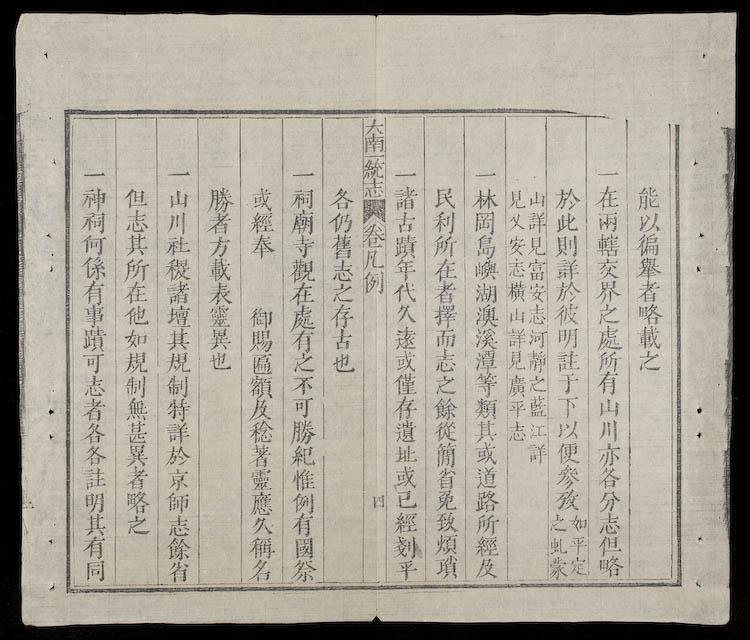c: (205, 185, 235, 212), (79, 326, 109, 352), (287, 257, 317, 282), (288, 418, 316, 444), (635, 324, 664, 349), (391, 533, 420, 558), (163, 256, 192, 281), (471, 464, 500, 489), (288, 305, 317, 330), (635, 184, 662, 210), (164, 326, 192, 351), (595, 325, 623, 350), (593, 184, 621, 209), (391, 185, 419, 210), (79, 186, 108, 210), (552, 186, 581, 210), (593, 233, 622, 257), (470, 187, 500, 210), (433, 441, 459, 467), (472, 371, 499, 396), (289, 210, 316, 235), (392, 325, 419, 350), (122, 257, 150, 281), (594, 442, 622, 466), (205, 257, 233, 281), (80, 255, 108, 279), (248, 491, 276, 515), (248, 234, 276, 258), (163, 443, 192, 466), (163, 281, 192, 304), (289, 558, 318, 581), (163, 420, 192, 443), (392, 395, 419, 419), (430, 210, 457, 234), (392, 464, 419, 488), (81, 397, 108, 421), (248, 467, 275, 491), (123, 397, 150, 421), (81, 373, 108, 397), (123, 209, 150, 233), (247, 443, 274, 467), (392, 234, 419, 258), (431, 234, 458, 258), (164, 513, 192, 536), (123, 443, 151, 466), (164, 467, 192, 490), (164, 536, 192, 559), (635, 349, 663, 372), (80, 466, 108, 489), (392, 510, 420, 533), (472, 489, 500, 512), (289, 467, 317, 490), (634, 233, 662, 256), (594, 279, 622, 302), (205, 212, 233, 235), (431, 304, 459, 327), (248, 535, 276, 558), (123, 490, 151, 513), (634, 279, 662, 302), (554, 464, 582, 487), (164, 397, 192, 420), (288, 282, 316, 305), (472, 304, 500, 327), (247, 420, 275, 443), (553, 349, 581, 372), (247, 329, 275, 352), (431, 396, 459, 419), (247, 305, 275, 328), (247, 375, 275, 398), (79, 211, 108, 233), (634, 303, 664, 324), (329, 234, 354, 259), (82, 512, 108, 536), (432, 185, 458, 209), (249, 186, 275, 210), (329, 303, 355, 327), (432, 348, 458, 372), (328, 186, 354, 210), (248, 558, 275, 581), (433, 555, 460, 578), (206, 327, 233, 350), (392, 419, 419, 442), (289, 444, 316, 467), (472, 419, 499, 442), (122, 350, 149, 373), (122, 233, 149, 256), (80, 303, 107, 326), (80, 280, 107, 303), (432, 258, 459, 281), (392, 372, 419, 395), (206, 281, 233, 304), (432, 532, 460, 554), (122, 281, 150, 303), (596, 555, 624, 577), (595, 512, 623, 534), (163, 234, 191, 256), (164, 351, 192, 373), (553, 258, 581, 280), (553, 488, 581, 510), (122, 420, 150, 442), (122, 186, 150, 208), (635, 256, 663, 278), (553, 280, 581, 302), (553, 303, 581, 325), (79, 233, 108, 254), (595, 371, 620, 395), (472, 210, 497, 234), (555, 395, 581, 418), (289, 512, 315, 535), (81, 535, 107, 558), (248, 352, 274, 375), (392, 211, 418, 234), (555, 440, 581, 463), (329, 259, 355, 282), (595, 418, 621, 441), (329, 328, 355, 351), (553, 234, 579, 257), (473, 512, 500, 534), (165, 560, 192, 582), (122, 327, 149, 349), (123, 467, 150, 489), (473, 534, 500, 556), (432, 420, 459, 442), (206, 305, 233, 327), (123, 304, 150, 326), (594, 257, 621, 279), (594, 303, 621, 325), (164, 374, 191, 396), (635, 211, 662, 233), (81, 490, 108, 512), (81, 421, 108, 443), (595, 489, 622, 511), (472, 442, 499, 464), (289, 330, 316, 352), (289, 187, 316, 209), (248, 211, 275, 233), (124, 514, 152, 535), (164, 491, 192, 512), (362, 223, 385, 248), (473, 235, 498, 258), (290, 536, 316, 558), (392, 258, 418, 280), (473, 328, 499, 350), (432, 373, 458, 395), (123, 374, 149, 396), (473, 397, 499, 419), (392, 350, 418, 372), (328, 211, 354, 233), (473, 349, 499, 371), (472, 281, 498, 303), (206, 235, 232, 257), (432, 281, 458, 303), (553, 211, 579, 233), (433, 510, 459, 532), (596, 466, 622, 488), (555, 372, 581, 394), (248, 398, 274, 420), (554, 327, 580, 349), (472, 259, 499, 280), (165, 305, 192, 326), (392, 281, 419, 302), (595, 396, 622, 417), (289, 491, 316, 512), (596, 534, 623, 555), (595, 350, 622, 371), (165, 211, 189, 234), (524, 441, 548, 464), (82, 559, 107, 581), (433, 467, 458, 489), (290, 395, 315, 417), (81, 444, 107, 465), (290, 352, 316, 373), (289, 236, 315, 257), (330, 352, 356, 373), (432, 327, 458, 348), (555, 419, 581, 440), (80, 352, 107, 372), (473, 557, 500, 577), (362, 271, 385, 294), (433, 489, 458, 510), (290, 374, 315, 395), (595, 211, 620, 232), (330, 282, 355, 303), (165, 188, 190, 209), (393, 559, 419, 579), (393, 443, 419, 463), (506, 280, 528, 303), (525, 349, 548, 371), (507, 373, 528, 397), (393, 488, 418, 508), (207, 351, 232, 371), (393, 304, 418, 324), (249, 515, 275, 534), (526, 258, 547, 281), (507, 419, 528, 442), (164, 166, 193, 182), (527, 395, 548, 417), (526, 211, 547, 233), (549, 555, 569, 578), (568, 555, 589, 576), (506, 327, 527, 348), (526, 304, 547, 325), (507, 234, 527, 256), (507, 187, 527, 209), (362, 250, 385, 269), (594, 165, 621, 181), (81, 167, 109, 182), (289, 167, 317, 182), (363, 158, 384, 178), (526, 235, 546, 256), (506, 257, 526, 278), (507, 349, 526, 371), (392, 167, 419, 182), (471, 167, 498, 182), (527, 373, 547, 393), (507, 398, 527, 418), (363, 135, 384, 154), (527, 328, 546, 348), (507, 305, 527, 324), (568, 534, 587, 554), (549, 535, 568, 555), (550, 511, 568, 532), (527, 189, 546, 208), (569, 513, 588, 532), (507, 212, 526, 231), (528, 282, 546, 302), (528, 420, 547, 438), (364, 118, 384, 135), (370, 492, 386, 510), (363, 185, 384, 198), (363, 177, 384, 187)
